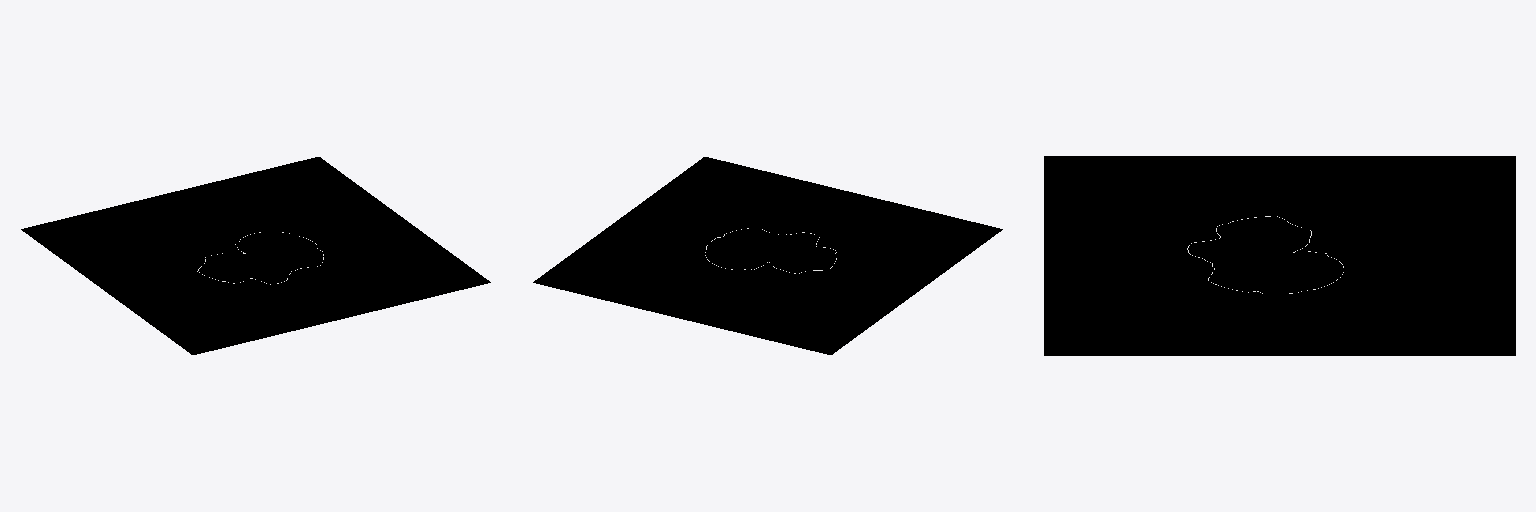
URDF robot description (world):
<robot name="world">
 
	<link name="plane">

   		<inertial>
		    <origin rpy="0 0 0" xyz="0 0 0" />
            <mass value="0.0" />
            <inertia ixx="0.0" ixy="0.0" ixz="0.0" iyy="0.0" iyz="0.0" izz="0.0" />
        </inertial>

    	<visual>
      		<geometry>
        		<box size="10.0 10.0 0.001" />
      		</geometry>

			<material name="plane_color">
        		<color rgba="0 0 0 1" />
      		</material>
       	
			<origin rpy="0 0 0" xyz="0 0 0" />
		</visual>

		<contact>
		 	<lateral_friction value="1" />
			<stiffness value="300000" />
          	<damping value="1000" />
  		</contact>

  		<collision>
			<geometry>
        		<box size="10.0 10.0 0.01" />
      		</geometry>
          <origin rpy="0 0 0" xyz="0 0 0" />
        </collision>
  
	</link>


	<link name="line">

   		<inertial>
		    <origin rpy="0 0 0" xyz="0 0 0" />
            <mass value="0.0" />
            <inertia ixx="0.0" ixy="0.0" ixz="0.0" iyy="0.0" iyz="0.0" izz="0.0" />
        </inertial>

    	<visual>
      		<geometry>
				<mesh filename="./models_tracks/2.obj" scale="1 1 1" />
      		</geometry>
       		
			<material name="line_color">
        		<color rgba="1 1 1 1" />
      		</material>
	    
			<origin rpy="0 0 0" xyz="0 0 0.001" />
		</visual>
    
	</link>


  	<joint name="plane_line" type="fixed">
		<parent link="plane" />
		<child link="line" />
        <origin rpy="0 0 0" xyz="0.0 0.0 0.0" />
 	</joint>

</robot>

--- Render facts (derived) ---
The picture shows the robot from 3 angles, left to right: view 1: azimuth 30°, elevation 25°; view 2: azimuth 150°, elevation 25°; view 3: azimuth 270°, elevation 25°; orthographic projection.
Model world with 2 links and 1 joints (1 fixed), rooted at plane, posed all joints at 0.
Links seen in each view (by area): view 1: plane; view 2: plane; view 3: plane.
Boxes of the visible links, x1,y1,x2,y2 form: plane: [21, 157, 490, 354]; plane: [533, 157, 1002, 354]; plane: [1044, 156, 1515, 355].
Size in the robot's own frame: 10 by 10 by 0.0015 metres.
Meshes: 1 distinct files referenced, 1 mesh visuals loaded (1 OBJ).
